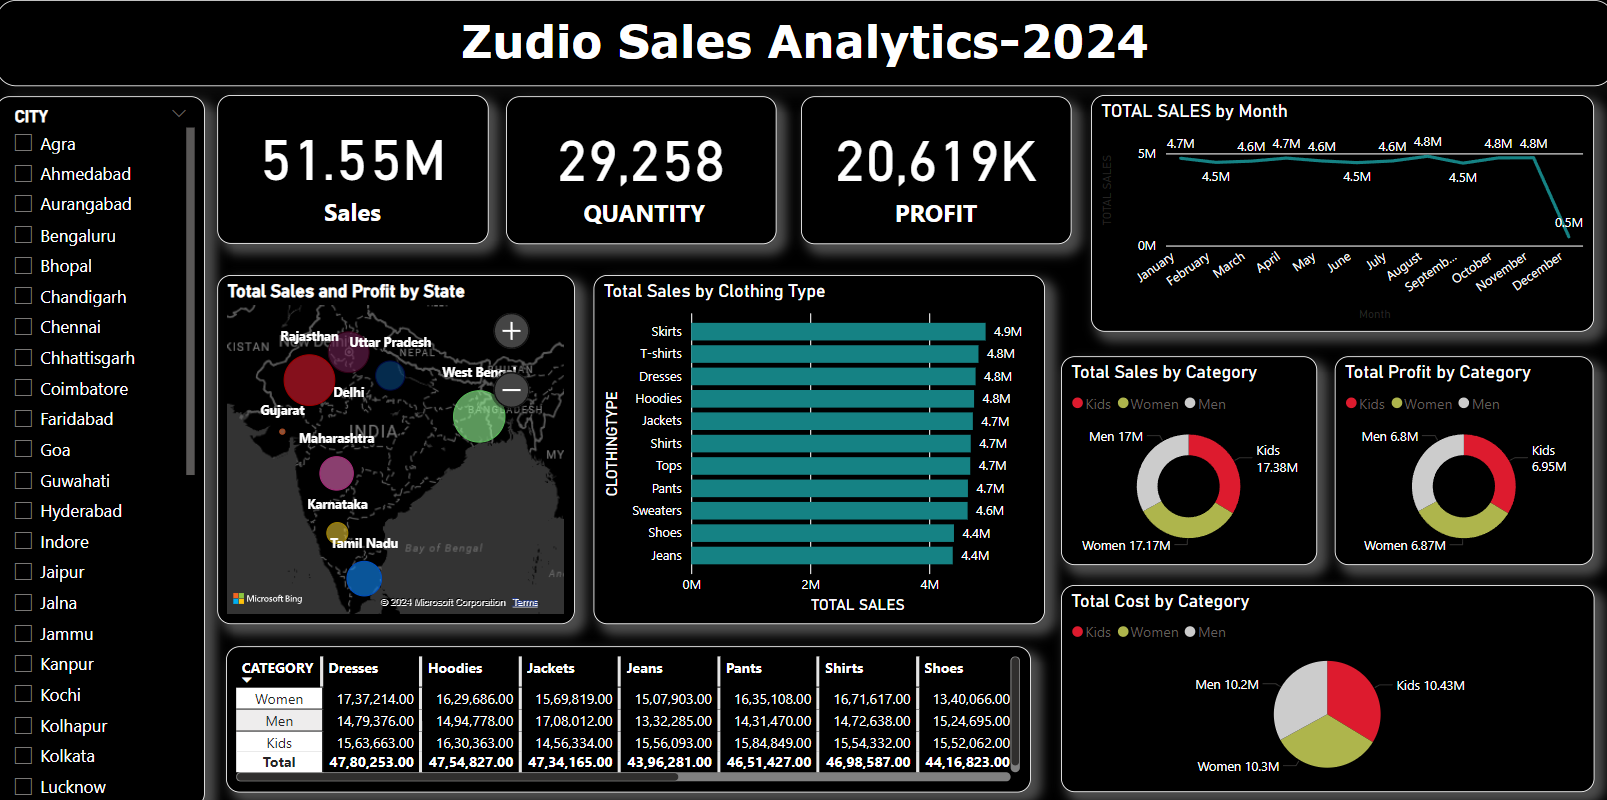

Layout of this report page (visuals, bound fields, positions):
{"tool":"powerbi","page":{"name":"Page 1","canvas":[1531,765],"ordinal":0},"visuals":[{"type":"textbox","box":[0,0,1531,81.7],"z":0},{"type":"slicer","fields":{"Values":["ZUDIO_STORE.CITY"]},"box":[0,91,197.4,673],"z":1000},{"type":"card","fields":{"Values":["ZUDIO_STORE.TOTAL SALES"]},"box":[209.3,90.3,256.6,140.5],"z":2000},{"type":"card","fields":{"Values":["Sum(ZUDIO_STORE.QUANTITY)"]},"box":[482,91,256,140],"z":3000},{"type":"card","fields":{"Values":["Sum(ZUDIO_STORE.SALESPROFIT)"]},"box":[761.4,91,256,140],"z":4000},{"type":"lineChart","fields":{"Y":["ZUDIO_STORE.TOTAL SALES"],"Category":["ZUDIO_STORE.ORDERDATE.Variation.Date Hierarchy.Quarter","ZUDIO_STORE.ORDERDATE.Variation.Date Hierarchy.Month","ZUDIO_STORE.ORDERDATE.Variation.Date Hierarchy.Day"]},"box":[1036.4,90.3,475.9,223.6],"z":5000},{"type":"barChart","title":"Total Sales by Clothing Type","fields":{"Category":["ZUDIO_STORE.CLOTHINGTYPE"],"Y":["ZUDIO_STORE.TOTAL SALES"]},"box":[565.3,260.2,426.9,330.7],"z":6000},{"type":"pivotTable","fields":{"Rows":["ZUDIO_STORE.CATEGORY"],"Columns":["ZUDIO_STORE.CLOTHINGTYPE"],"Values":["ZUDIO_STORE.TOTAL SALES"]},"box":[217.9,611.4,761.4,138.4],"z":7000},{"type":"donutChart","title":"Total Sales by Category","fields":{"Category":["ZUDIO_STORE.CATEGORY"],"Y":["ZUDIO_STORE.TOTAL SALES"]},"box":[1007.8,336.9,242.3,197.8],"z":8000},{"type":"map","title":"Total Sales and Profit by State","fields":{"Category":["ZUDIO_STORE.STATE"],"Size":["ZUDIO_STORE.TOTAL SALES"]},"box":[208.9,260.2,338.4,330.7],"z":9000},{"type":"pieChart","title":" Total Cost by Category","fields":{"Category":["ZUDIO_STORE.CATEGORY"],"Y":["Sum(ZUDIO_STORE.TOTALCOST)"]},"box":[1007.8,553.3,504.6,196.4],"z":10000},{"type":"donutChart","title":"Total Profit  by Category","fields":{"Category":["ZUDIO_STORE.CATEGORY"],"Y":["Sum(ZUDIO_STORE.SALESPROFIT)"]},"box":[1267.2,336.9,245.1,197.8],"z":11000}]}

Visuals, with their boxes in screenshot pixels (x1, y1, x2, y2), scaled from the page's 1531x765 canvas onto the 1607x800 screenshot:
textbox: (x1=0, y1=0, x2=1606, y2=85)
slicer - ZUDIO_STORE.CITY: (x1=0, y1=95, x2=207, y2=799)
card - ZUDIO_STORE.TOTAL SALES: (x1=220, y1=94, x2=489, y2=241)
card - Sum(ZUDIO_STORE.QUANTITY): (x1=506, y1=95, x2=775, y2=242)
card - Sum(ZUDIO_STORE.SALESPROFIT): (x1=799, y1=95, x2=1068, y2=242)
lineChart - ZUDIO_STORE.TOTAL SALES x ZUDIO_STORE.ORDERDATE.Variation.Date Hierarchy.Quarter: (x1=1088, y1=94, x2=1587, y2=328)
"Total Sales by Clothing Type" barChart: (x1=593, y1=272, x2=1041, y2=618)
pivotTable - ZUDIO_STORE.CATEGORY x ZUDIO_STORE.CLOTHINGTYPE: (x1=229, y1=639, x2=1028, y2=784)
"Total Sales by Category" donutChart: (x1=1058, y1=352, x2=1312, y2=559)
"Total Sales and Profit by State" map: (x1=219, y1=272, x2=574, y2=618)
" Total Cost by Category" pieChart: (x1=1058, y1=579, x2=1587, y2=784)
"Total Profit  by Category" donutChart: (x1=1330, y1=352, x2=1587, y2=559)
